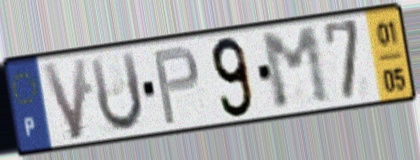7: (319, 18, 364, 105)
9: (209, 34, 257, 120)
M: (257, 23, 335, 114)
P: (150, 42, 202, 128)
U: (86, 48, 146, 136)
V: (38, 54, 89, 144)
